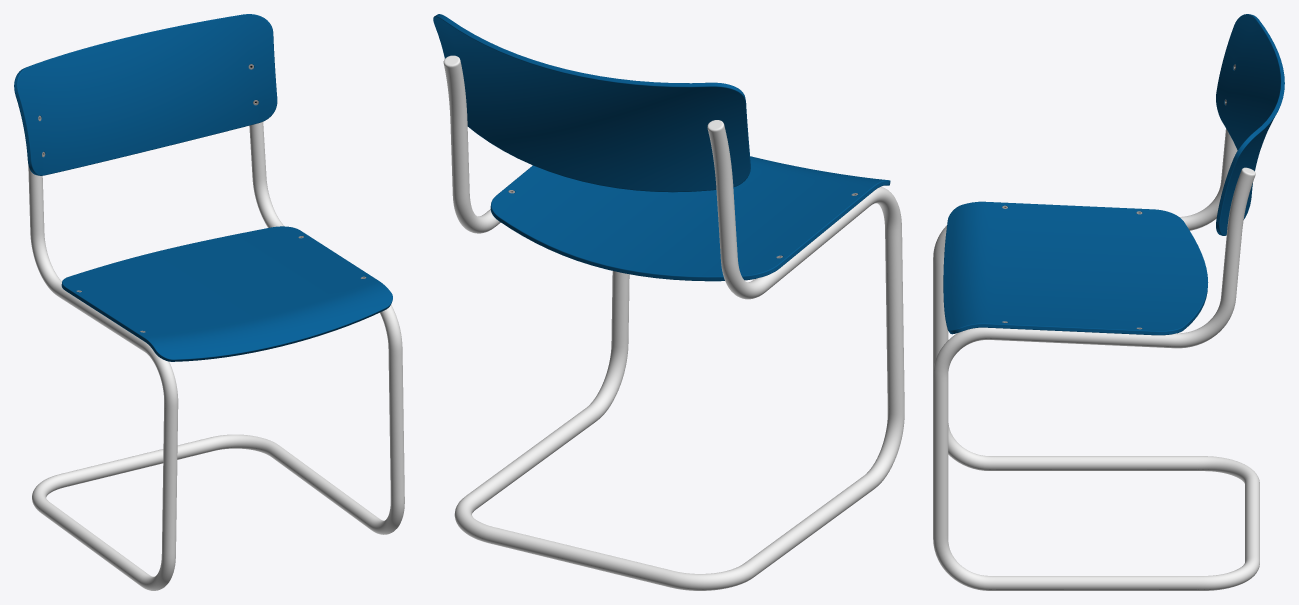
3 renders of one model, left to right at view 1: azimuth 30°, elevation 25°; view 2: azimuth 150°, elevation 25°; view 3: azimuth 270°, elevation 25°, orthographic. The views are drawn at different scales.
Parts seen in each view (by area): view 1: F16 Thonet S 43 chair; view 2: F16 Thonet S 43 chair; view 3: F16 Thonet S 43 chair.
Boxes of the visible parts, x1,y1,x2,y2 form: F16 Thonet S 43 chair: (14, 14, 404, 590); F16 Thonet S 43 chair: (433, 14, 904, 590); F16 Thonet S 43 chair: (933, 14, 1284, 590).
Bounding box in the file's own units: 504 × 557 × 797.
